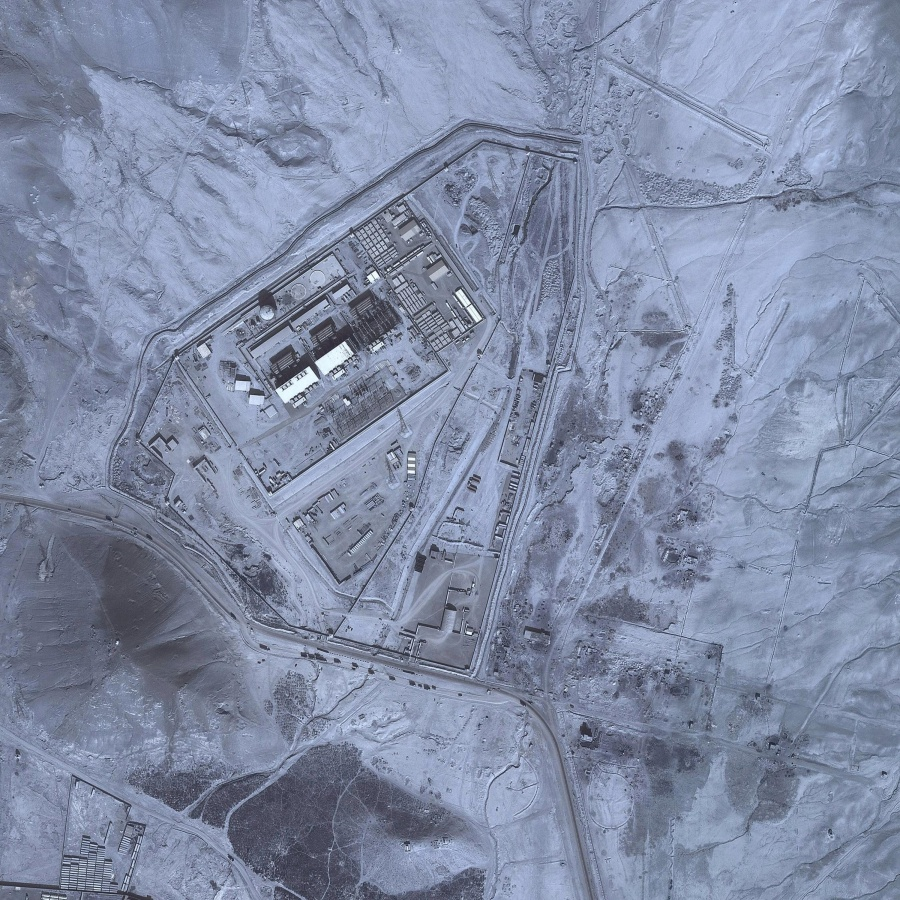PowerPlant: (232, 223, 482, 407)
